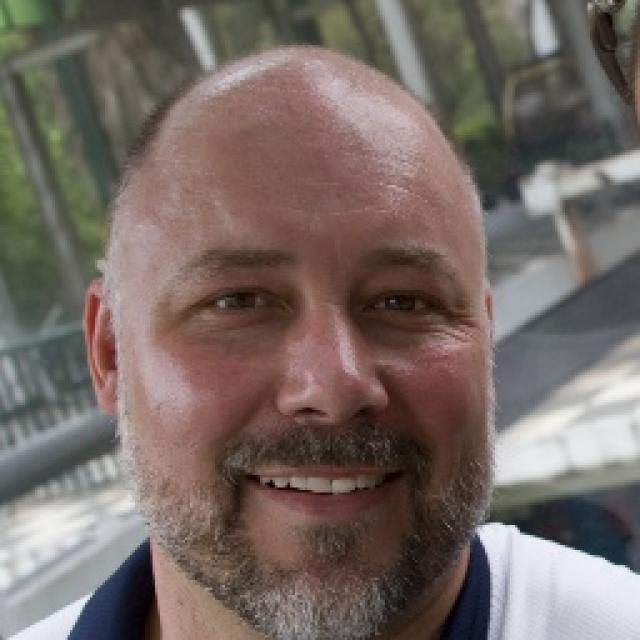earlobe: (83, 279, 123, 417)
